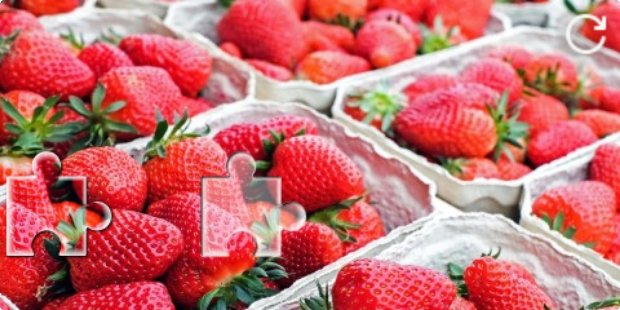target: (202, 152, 305, 256)
